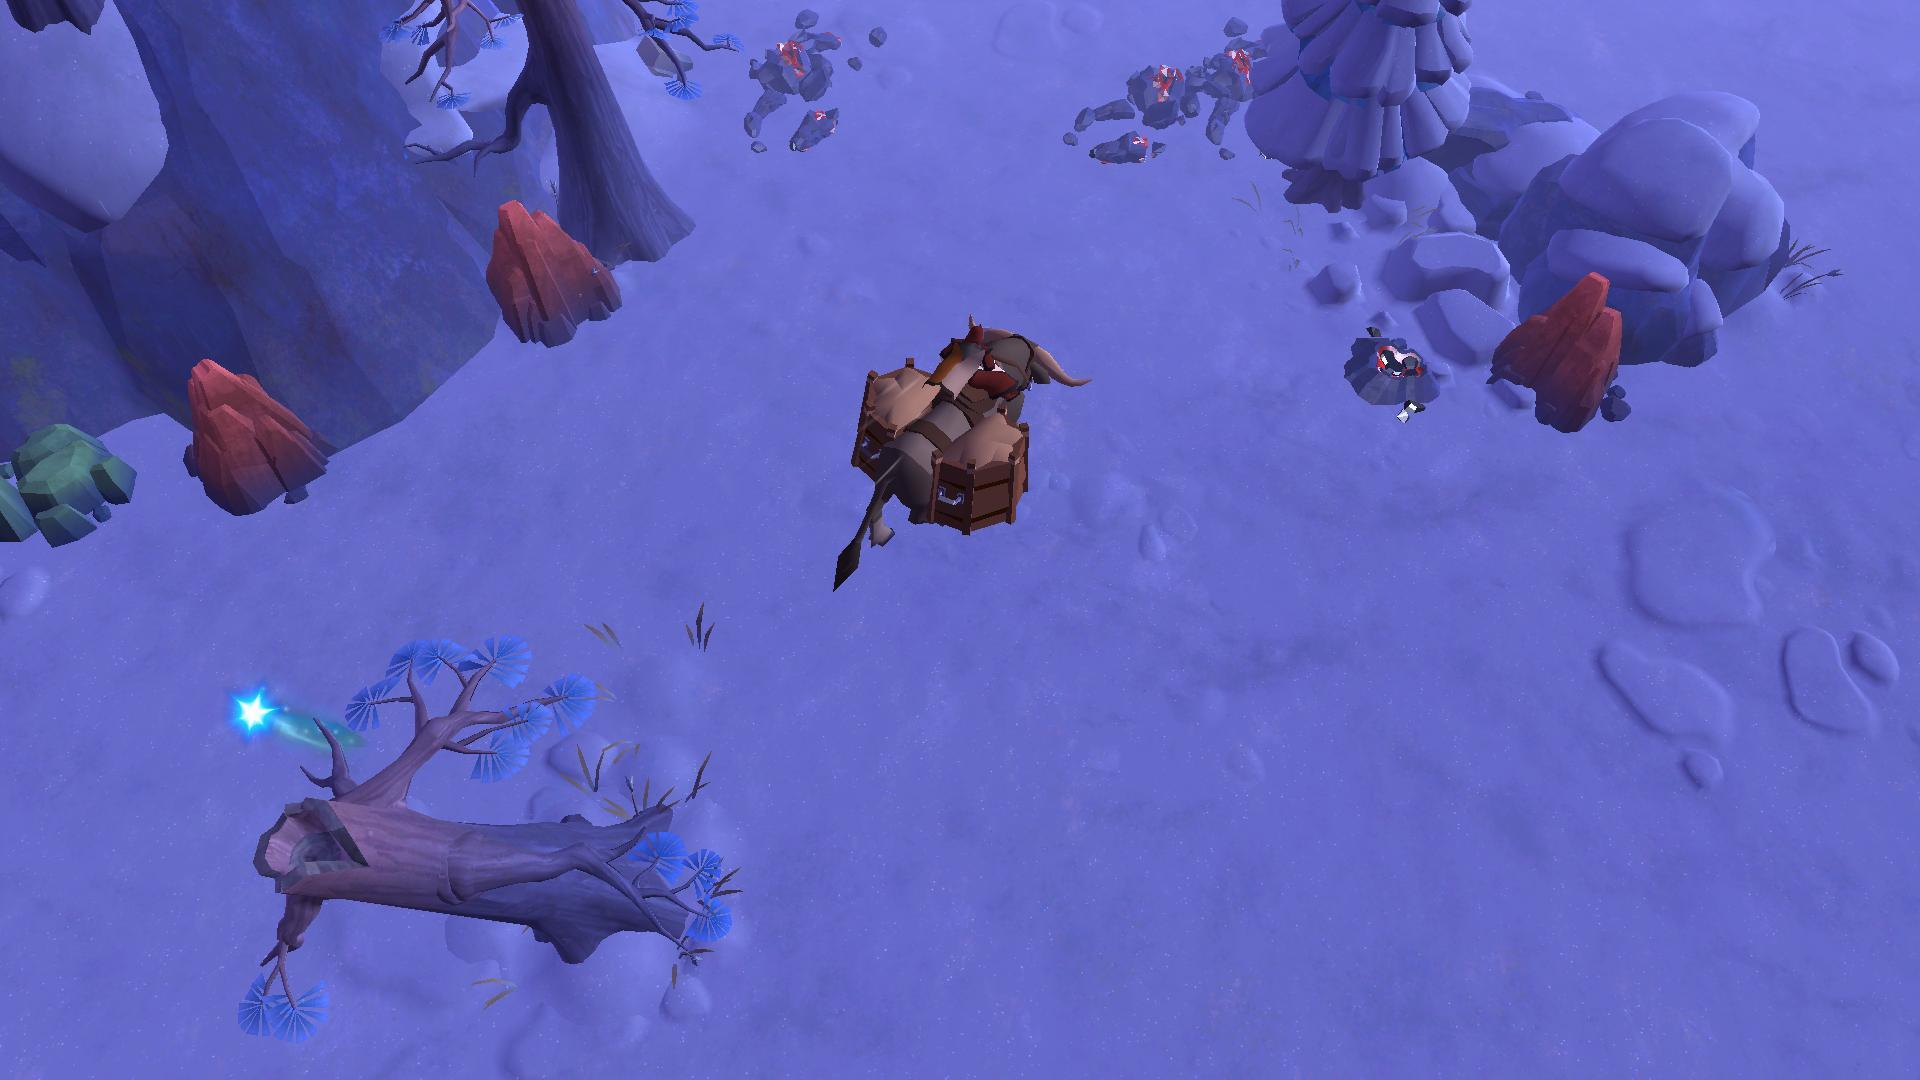rock_t3: (0, 421, 138, 564)
rock_t5: (170, 355, 330, 508), (1490, 268, 1630, 436), (483, 194, 628, 349)
